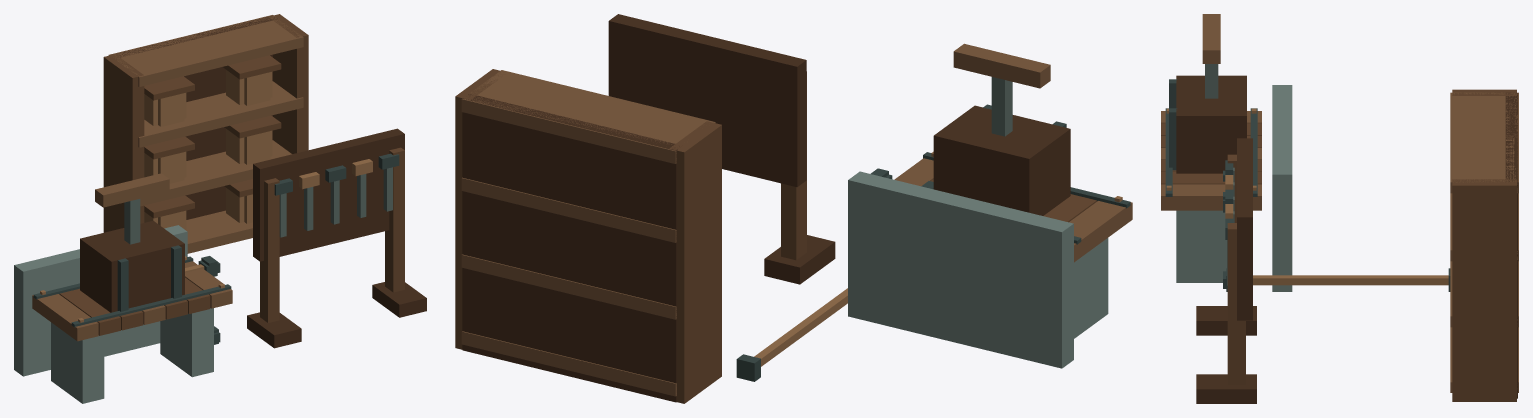
Rendered from B29_demine.glb.
The picture shows the model from 3 angles, left to right: view 1: azimuth 30°, elevation 25°; view 2: azimuth 150°, elevation 25°; view 3: azimuth 270°, elevation 25°; orthographic projection. The views are drawn at different scales.
Visible parts, largest first — view 1: B29_demine__cable_stock_ShelfBoard_woodlight, B29_demine__tool_rack_ToolBoard_wooddark, B29_demine__cable_stock_ShelfUpright_wood, B29_demine__main_station_DetonatorBox_wooddark, B29_demine__main_station_BlastBackstop_stone, B29_demine__main_station_DetonatorPier_stone, B29_demine__cable_stock_Cylinder_copper, B29_demine__tool_rack_ToolStand_wood, B29_demine__cable_stock_SpoolEnd_wood, B29_demine__cable_stock_ShelfBack_wooddark, B29_demine__main_station_TableTop_woodlight, B29_demine__tool_rack_ToolFoot_wooddark (+9 smaller); view 2: B29_demine__cable_stock_ShelfBack_wooddark, B29_demine__main_station_BlastBackstop_stone, B29_demine__tool_rack_ToolBoard_wooddark, B29_demine__cable_stock_ShelfBoard_woodlight, B29_demine__cable_stock_ShelfUpright_wood, B29_demine__main_station_DetonatorBox_wooddark, B29_demine__main_station_TableTop_woodlight, B29_demine__main_station_DetonatorPier_stone, B29_demine__main_station_PlungerGrip_woodlight, B29_demine__tool_rack_ToolStand_wood, B29_demine__tool_rack_ToolFoot_wooddark, B29_demine__main_station_Pipe_copper (+3 smaller); view 3: B29_demine__cable_stock_ShelfUpright_wood, B29_demine__cable_stock_ShelfBoard_woodlight, B29_demine__main_station_DetonatorBox_wooddark, B29_demine__main_station_BlastBackstop_stone, B29_demine__main_station_DetonatorPier_stone, B29_demine__tool_rack_ToolBoard_wooddark, B29_demine__tool_rack_ToolFoot_wooddark, B29_demine__tool_rack_ToolStand_wood, B29_demine__main_station_Pipe_copper, B29_demine__main_station_TableTop_woodlight, B29_demine__cable_stock_ShelfBack_wooddark, B29_demine__main_station_TableTop_wood (+5 smaller).
Boxes of the visible parts, box(x1,y1,x2,y2) form: B29_demine__cable_stock_ShelfBoard_woodlight: box(108, 15, 303, 253); B29_demine__tool_rack_ToolBoard_wooddark: box(253, 128, 404, 261); B29_demine__cable_stock_ShelfUpright_wood: box(103, 14, 308, 232); B29_demine__main_station_DetonatorBox_wooddark: box(80, 220, 184, 312); B29_demine__main_station_BlastBackstop_stone: box(14, 225, 187, 376); B29_demine__main_station_DetonatorPier_stone: box(51, 308, 213, 403); B29_demine__cable_stock_Cylinder_copper: box(144, 70, 272, 230); B29_demine__tool_rack_ToolStand_wood: box(260, 147, 404, 322); B29_demine__cable_stock_SpoolEnd_wood: box(144, 55, 281, 218); B29_demine__cable_stock_ShelfBack_wooddark: box(112, 15, 277, 219); B29_demine__main_station_TableTop_woodlight: box(32, 261, 232, 341); B29_demine__tool_rack_ToolFoot_wooddark: box(247, 282, 426, 348); B29_demine__cable_stock_ShelfBack_wooddark: box(462, 94, 679, 402); B29_demine__main_station_BlastBackstop_stone: box(848, 171, 1073, 368); B29_demine__tool_rack_ToolBoard_wooddark: box(608, 14, 806, 186); B29_demine__cable_stock_ShelfBoard_woodlight: box(461, 70, 715, 396); B29_demine__cable_stock_ShelfUpright_wood: box(455, 69, 721, 403); B29_demine__main_station_DetonatorBox_wooddark: box(933, 105, 1070, 215); B29_demine__main_station_TableTop_woodlight: box(894, 158, 1132, 262); B29_demine__main_station_DetonatorPier_stone: box(1074, 238, 1108, 338); B29_demine__main_station_PlungerGrip_woodlight: box(953, 43, 1050, 88); B29_demine__tool_rack_ToolStand_wood: box(781, 71, 806, 260); B29_demine__tool_rack_ToolFoot_wooddark: box(764, 235, 835, 284); B29_demine__main_station_Pipe_copper: box(754, 288, 847, 366); B29_demine__cable_stock_ShelfUpright_wood: box(1452, 89, 1516, 401); B29_demine__cable_stock_ShelfBoard_woodlight: box(1450, 92, 1518, 392); B29_demine__main_station_DetonatorBox_wooddark: box(1176, 75, 1246, 173); B29_demine__main_station_BlastBackstop_stone: box(1272, 85, 1292, 291); B29_demine__main_station_DetonatorPier_stone: box(1176, 210, 1226, 282); B29_demine__tool_rack_ToolBoard_wooddark: box(1237, 138, 1252, 320); B29_demine__tool_rack_ToolFoot_wooddark: box(1196, 306, 1256, 403); B29_demine__tool_rack_ToolStand_wood: box(1227, 154, 1245, 384); B29_demine__main_station_Pipe_copper: box(1253, 275, 1448, 285); B29_demine__main_station_TableTop_woodlight: box(1161, 111, 1261, 210); B29_demine__cable_stock_ShelfBack_wooddark: box(1505, 92, 1517, 398); B29_demine__main_station_TableTop_wood: box(1161, 123, 1261, 184).
Size of the model in its own units: 4.73 by 2.36 by 3.54.
